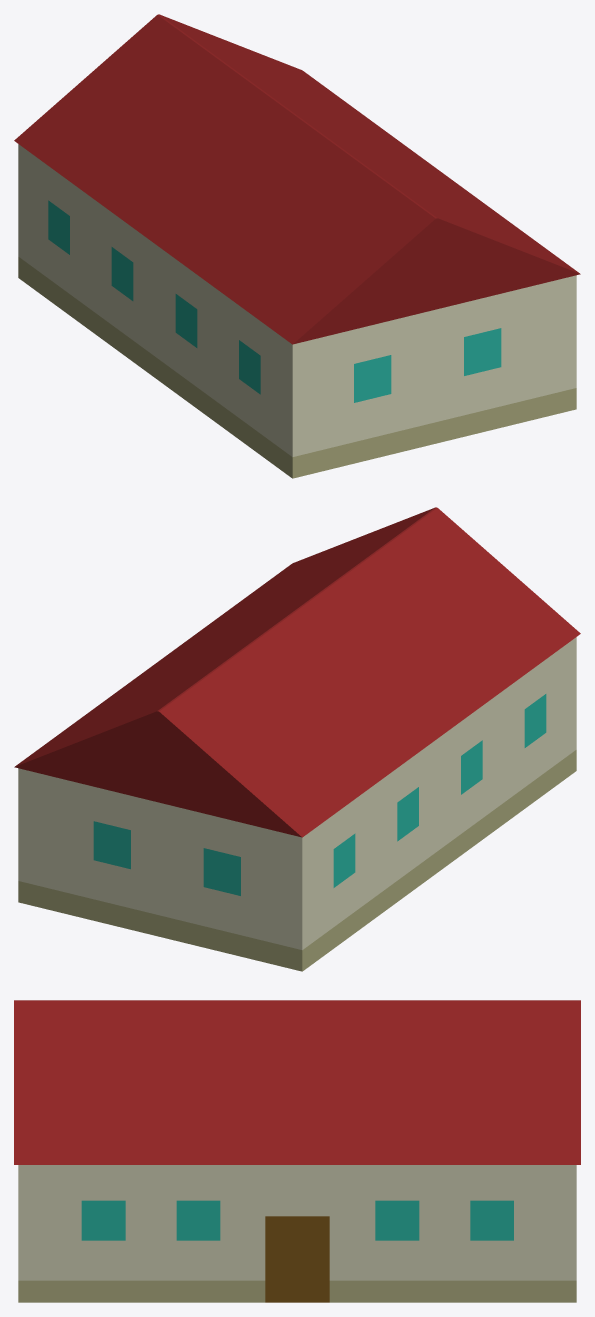
Rendered from House1.gltf.
3 renders of one model, top to bottom at view 1: azimuth 30°, elevation 25°; view 2: azimuth 150°, elevation 25°; view 3: azimuth 270°, elevation 25°, orthographic.
Parts seen in each view (by area): view 1: House1; view 2: House1; view 3: House1.
Part boxes in pixels (x1=…): House1: x1=14, y1=14, x2=580, y2=478; House1: x1=14, y1=507, x2=580, y2=971; House1: x1=14, y1=1000, x2=580, y2=1302.
Size of the model in its own units: 1.97 by 1.48 by 3.29.
